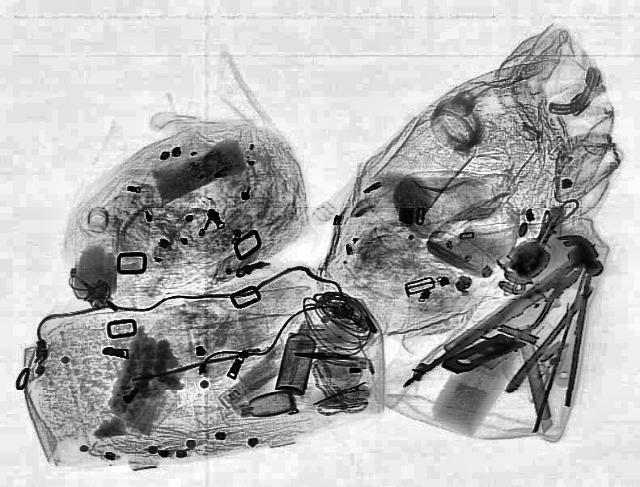Pliers: (477, 252, 598, 346)
